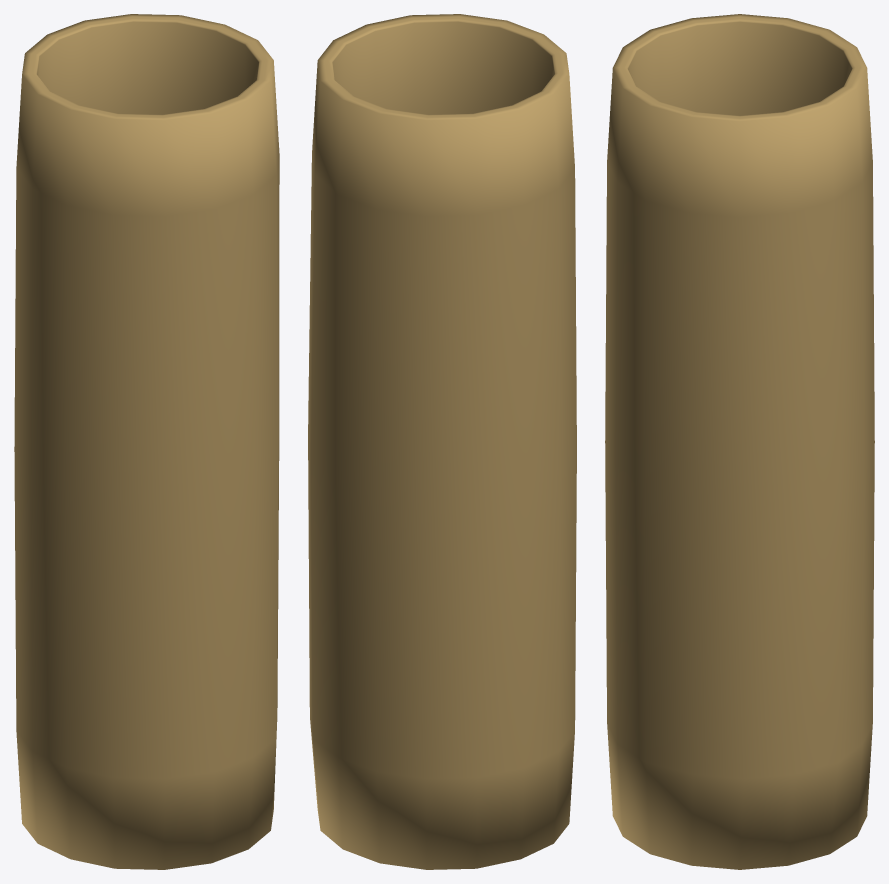
The model's file is empty toilet paper.FBX.
3 renders of one model, left to right at view 1: azimuth 30°, elevation 25°; view 2: azimuth 150°, elevation 25°; view 3: azimuth 270°, elevation 25°, orthographic.
Visible parts, largest first — view 1: Cylinder004; view 2: Cylinder004; view 3: Cylinder004.
Boxes of the visible parts, box(x1,y1,x2,y2) form: Cylinder004: box(14, 14, 279, 869); Cylinder004: box(308, 14, 576, 869); Cylinder004: box(605, 14, 874, 869).
Bounding box in the file's own units: 9.8 × 30 × 9.8.
Materials: 1 (1 with a texture image).
